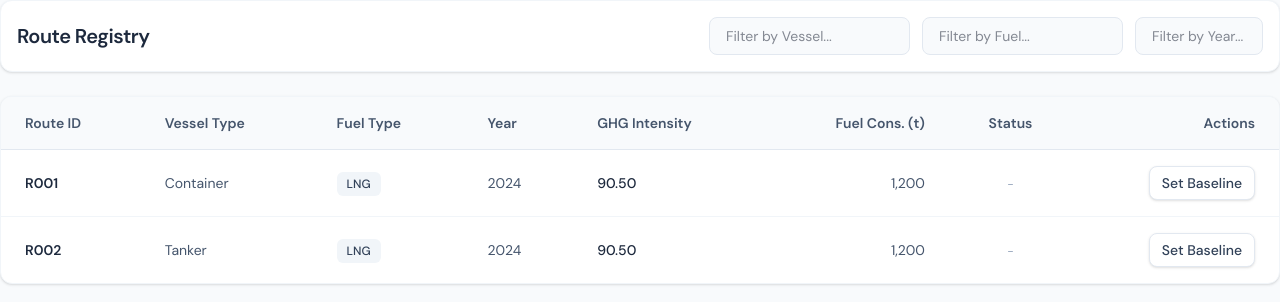
Test: RoutesTab Component › filters routes by vessel type as the user types
Type "Tanker" into the field named "filter by vessel type" at (810, 36), box top-left (709, 17), bottom-right (910, 55)
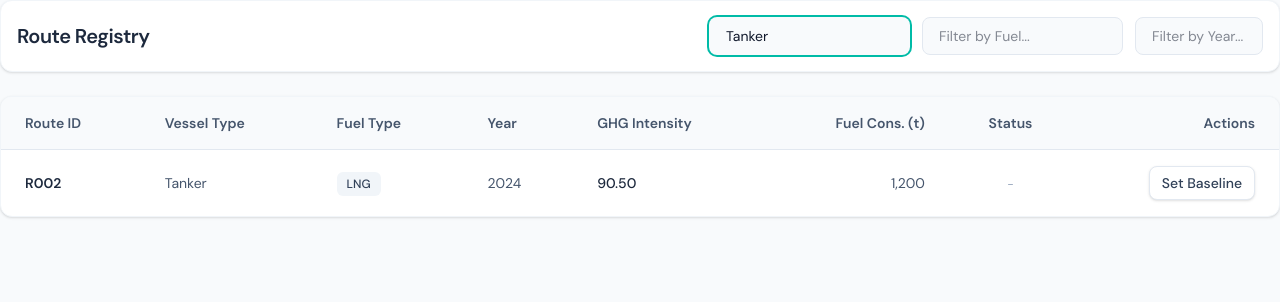
Check: the text "R002" is shown, box top-left (1, 150), bottom-right (141, 216)
Check: the text "R001" is gone
